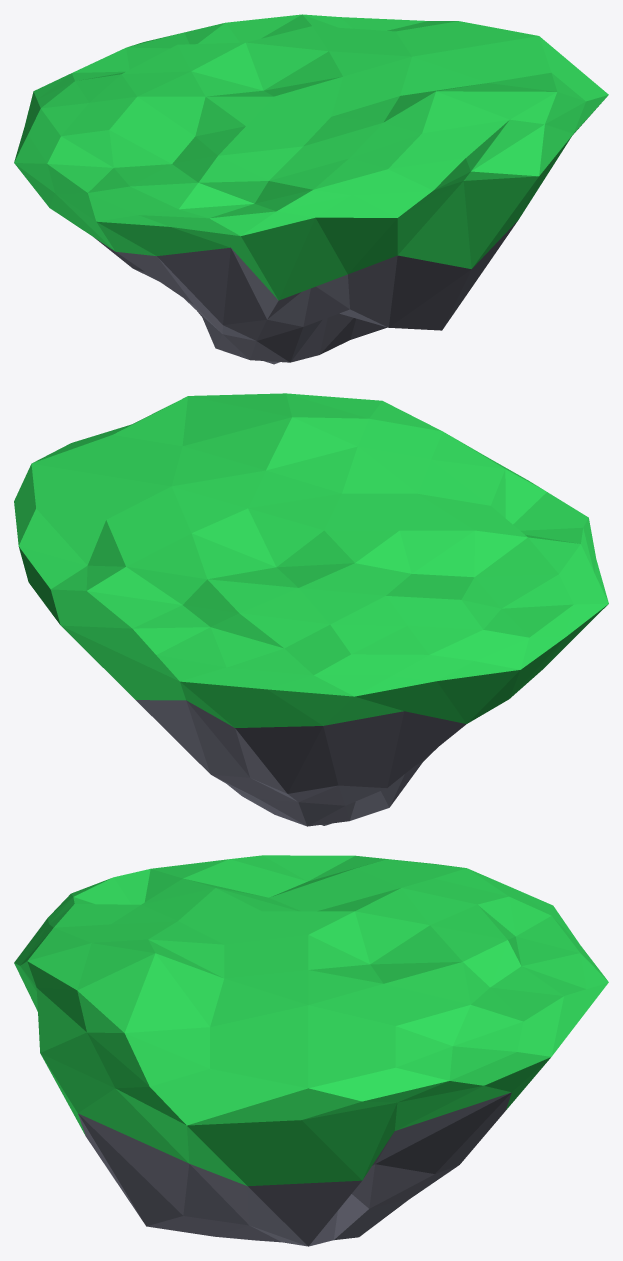
The model's file is IslandGreenAndGray.fbx.
The picture shows the model from 3 angles, top to bottom: view 1: azimuth 30°, elevation 25°; view 2: azimuth 150°, elevation 25°; view 3: azimuth 270°, elevation 25°; orthographic projection. The views are drawn at different scales.
Parts seen in each view (by area): view 1: Island.002; view 2: Island.002; view 3: Island.002.
Boxes of the visible parts, left/top/right/bottom form: Island.002: left=14, top=14, right=608, bottom=364; Island.002: left=14, top=393, right=608, bottom=826; Island.002: left=14, top=855, right=608, bottom=1246.
Bounding box in the file's own units: 1113 × 634 × 996.
1 material, 1 textured.
